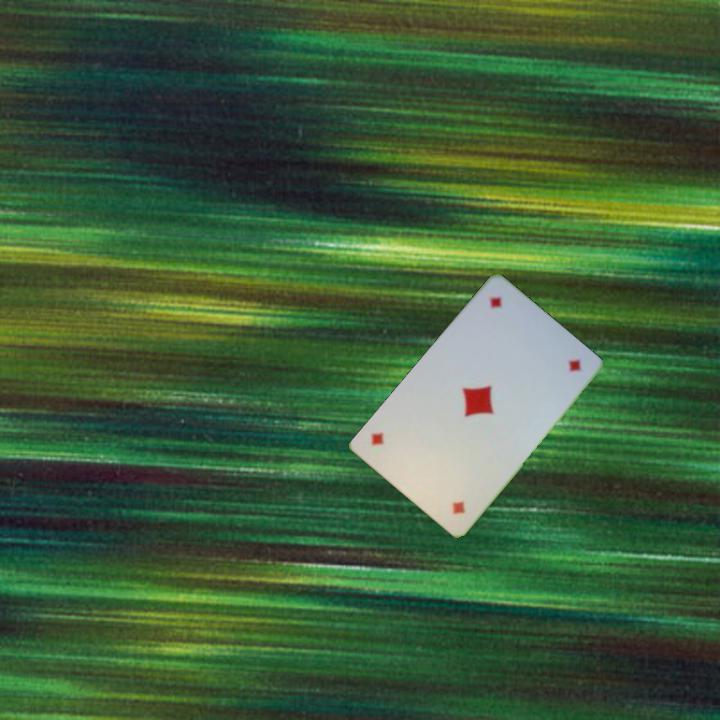d_a.png: (460, 284, 546, 370), (408, 441, 494, 526)
